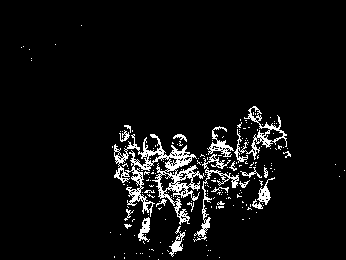person: (198, 125, 234, 241), (165, 133, 199, 255), (252, 116, 290, 210), (110, 122, 143, 229), (140, 131, 169, 242), (235, 100, 260, 188)
